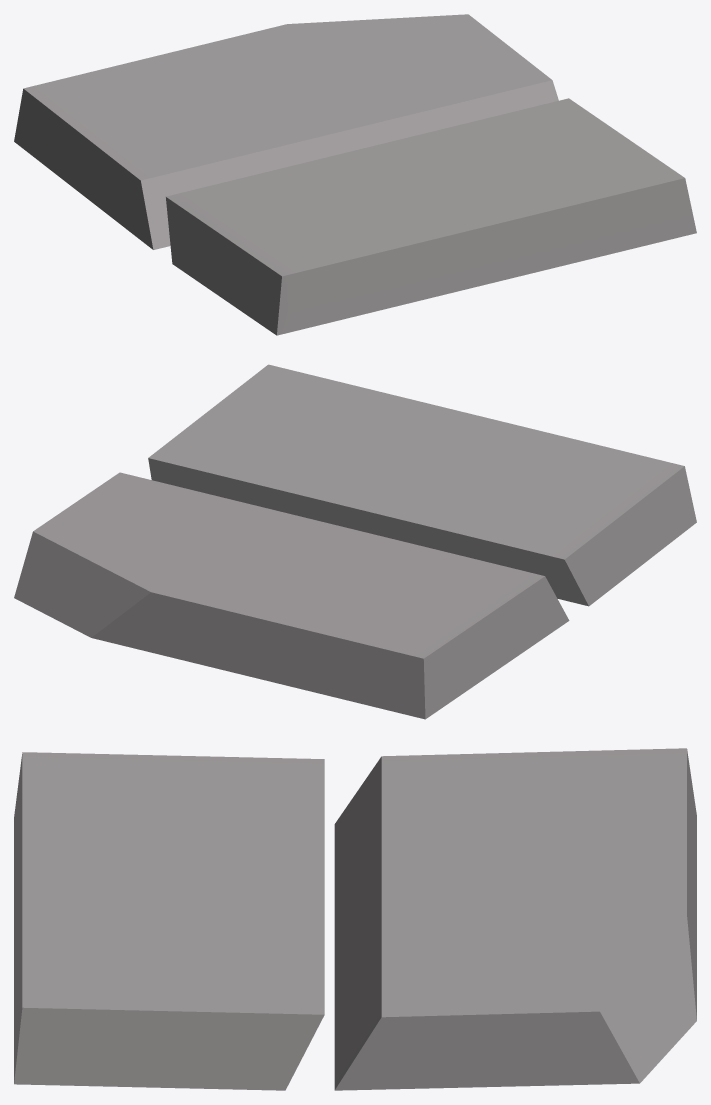
Rendered from Rock_Tile_crk_m_04.fbx.
3 renders of one model, top to bottom at view 1: azimuth 30°, elevation 25°; view 2: azimuth 150°, elevation 25°; view 3: azimuth 270°, elevation 25°, orthographic. The views are drawn at different scales.
Visible parts, largest first — view 1: Rock_Tile_crk_m_04; view 2: Rock_Tile_crk_m_04; view 3: Rock_Tile_crk_m_04.
Part boxes in pixels (x1,y1,x2,y2): Rock_Tile_crk_m_04: (14,14,696,335); Rock_Tile_crk_m_04: (14,364,696,719); Rock_Tile_crk_m_04: (14,748,696,1090).
Bounding box in the file's own units: 40 × 5.56 × 43.34.
